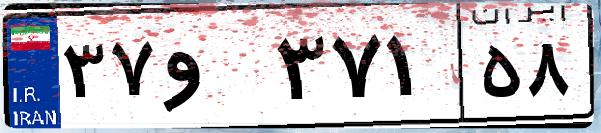1: (385, 28, 445, 110)
3: (270, 28, 330, 110), (57, 26, 110, 100)
5: (475, 38, 525, 113)
7: (330, 28, 385, 110), (110, 28, 158, 98)
8: (525, 38, 570, 115)
و: (158, 20, 270, 120)
